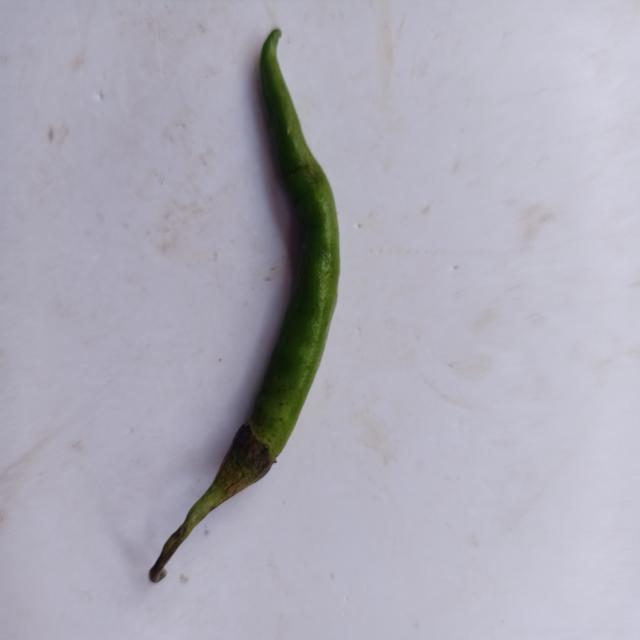Green Chilly: (149, 28, 340, 583)
